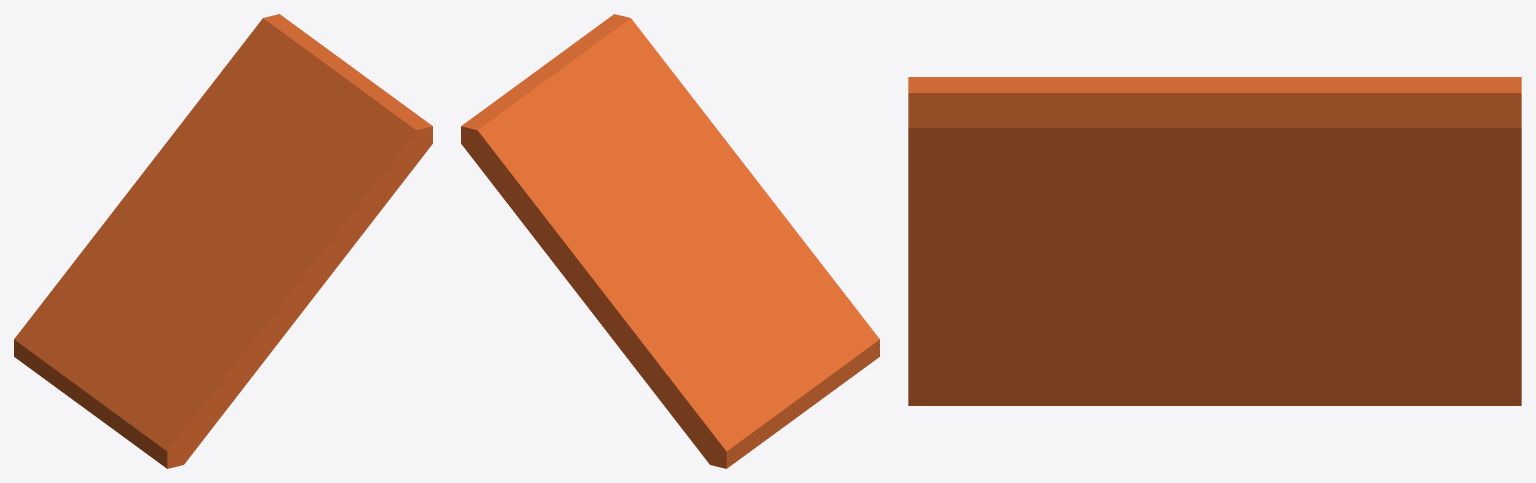
Rendered from Ceiling2m.glb.
3 views of the same model, side by side, from view 1: azimuth 30°, elevation 25°; view 2: azimuth 150°, elevation 25°; view 3: azimuth 270°, elevation 25° (orthographic). The views are drawn at different scales.
Visible parts, largest first — view 1: Ceiling2m; view 2: Ceiling2m; view 3: Ceiling2m.
Boxes of the visible parts, x1,y1,x2,y2 form: Ceiling2m: (14,14,432,468); Ceiling2m: (461,14,879,468); Ceiling2m: (908,77,1521,405).
Size of the model in its own units: 2 by 2 by 2.
